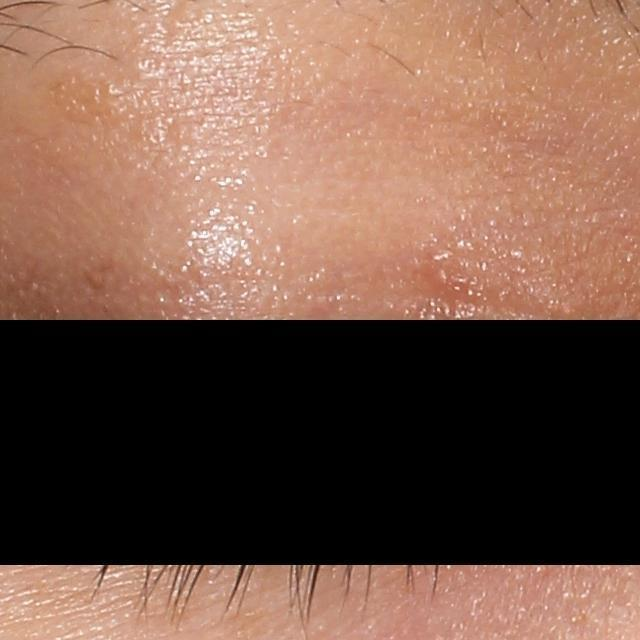melasma: (49, 73, 138, 126)
